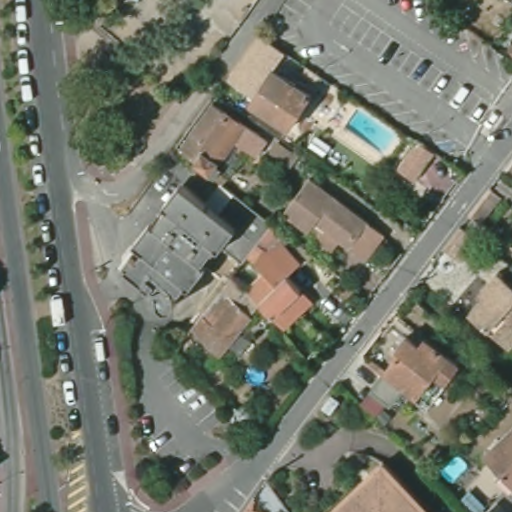pool: (346, 105, 400, 153), (440, 452, 470, 485), (243, 365, 269, 386)
